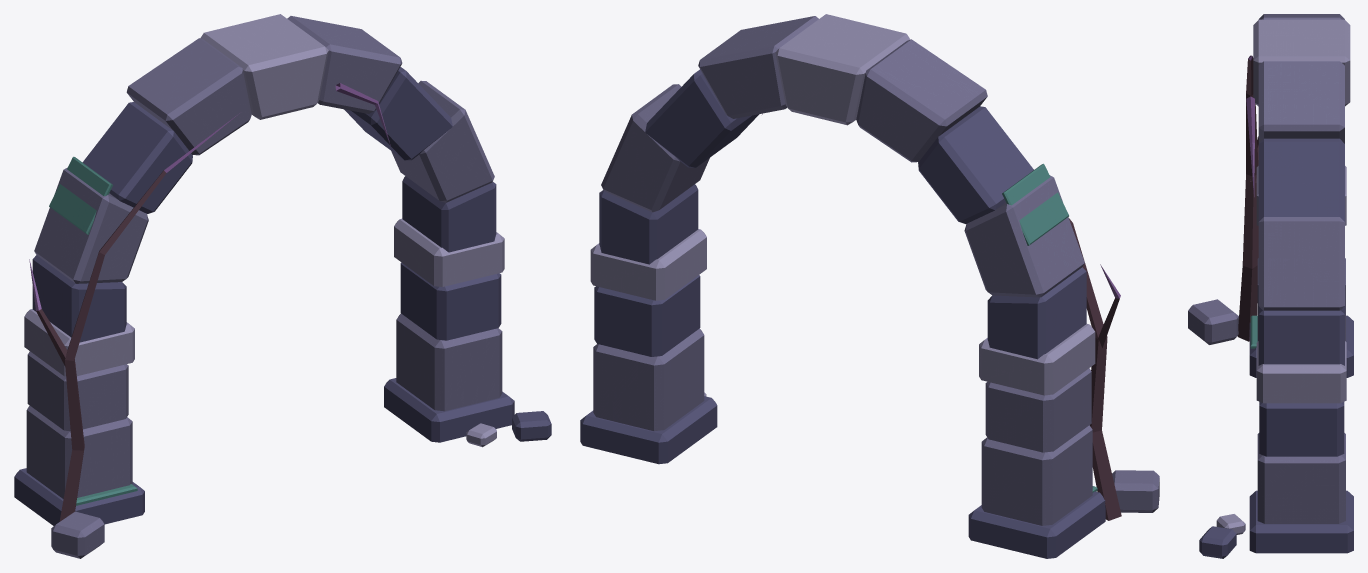
Rendered from arch_ruin.glb.
The picture shows the model from 3 angles, left to right: view 1: azimuth 30°, elevation 25°; view 2: azimuth 150°, elevation 25°; view 3: azimuth 270°, elevation 25°; orthographic projection. The views are drawn at different scales.
Parts seen in each view (by area): view 1: arch_ruin; view 2: arch_ruin; view 3: arch_ruin.
Part boxes in pixels (x1,y1,x2,y2): arch_ruin: (14,14,551,558); arch_ruin: (580,14,1159,558); arch_ruin: (1188,14,1353,558).
Size of the model in its own units: 6.33 by 5.1 by 1.88.
1 material, 1 textured.
